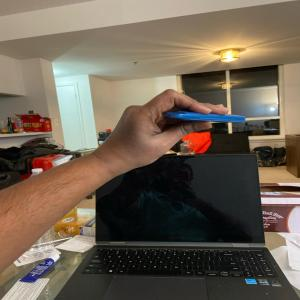Diamond-E-Ciggirate: (163, 108, 250, 125)
